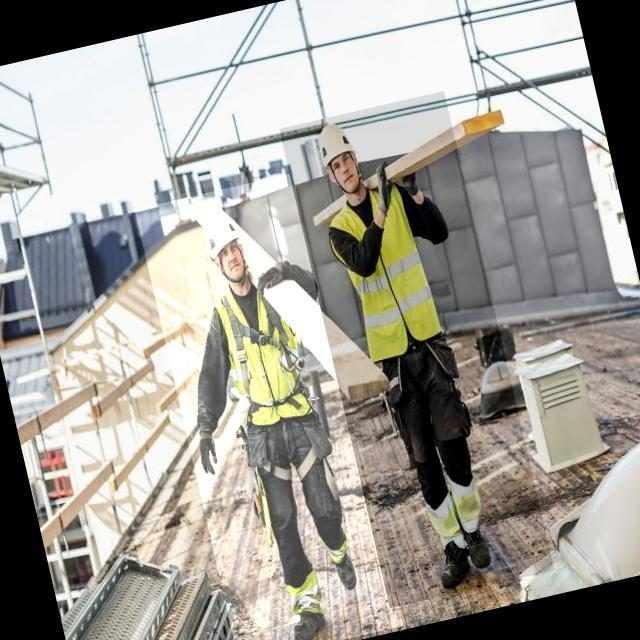Gloves: (193, 428, 226, 482), (369, 158, 399, 211), (252, 263, 301, 295), (384, 164, 424, 202)
Helmet: (194, 203, 254, 271), (309, 113, 368, 176)
Person: (300, 102, 515, 610), (178, 192, 378, 640)
Safety Boot: (427, 529, 482, 599), (274, 592, 339, 640), (325, 542, 370, 603), (463, 521, 503, 575)
Safety Vest: (314, 164, 465, 375), (200, 259, 329, 438)
